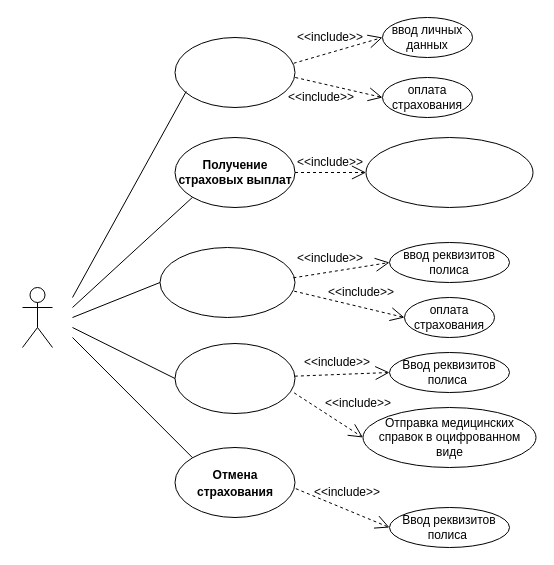
This 554x565 diagram has some shape labels left out. Here are the shapes that lost their labels. From the top down, the centre of each, then its label:
the point at 234,72: Подача заявки на получение полиса
the point at 449,172: ввод личных данных и деталей страхового случая
the point at 227,282: Продление полиса
the point at 37,317: Клиент
the point at 234,378: Обновление данных о здоровье
